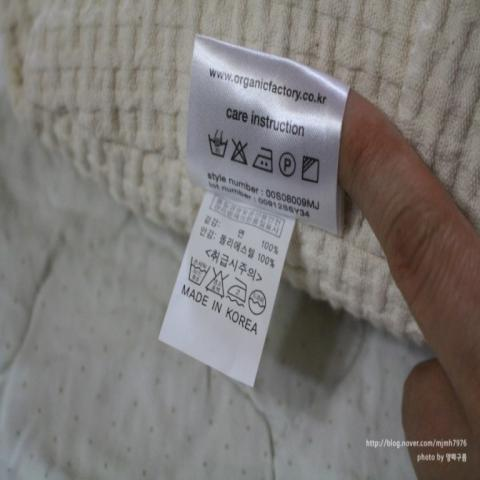DN_bleach: (229, 139, 253, 168)
dry_clean: (247, 288, 271, 317)
dry_clean_any_solvent_except_trichloroethylene: (277, 148, 301, 182)
hand_wash: (206, 130, 231, 161), (186, 258, 212, 286)
iron_medium: (226, 276, 252, 308), (253, 144, 277, 174)
non_chlorine_bleach: (206, 269, 232, 298)
shade_dry: (300, 151, 327, 185)
